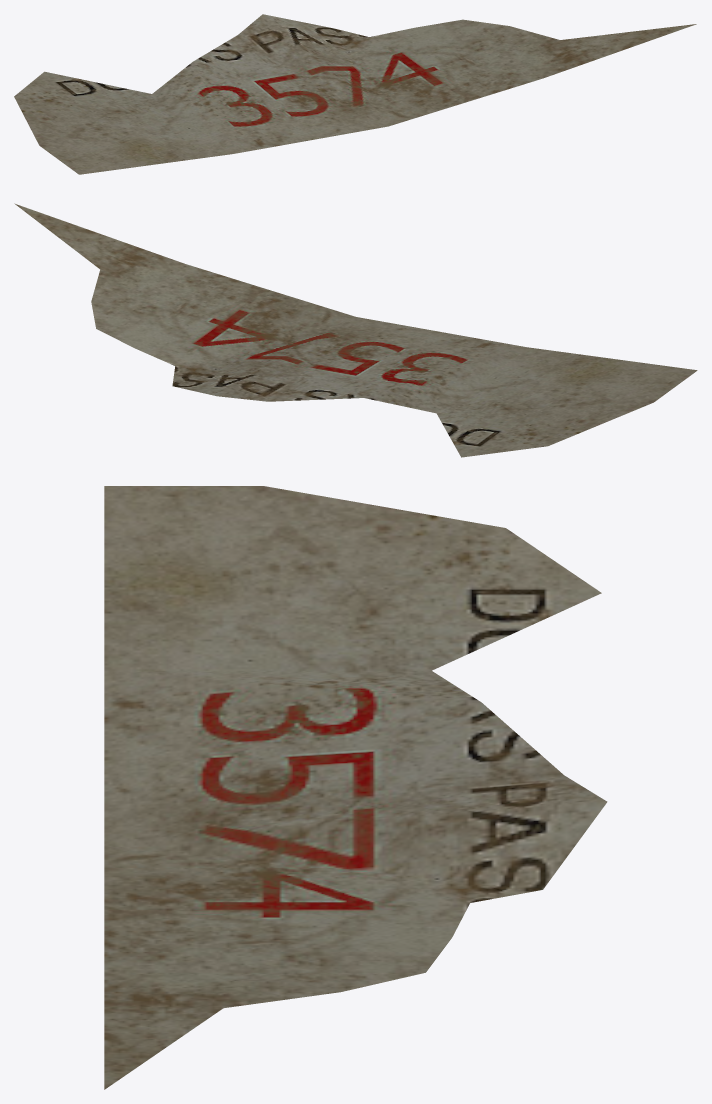
Rendered from Passcode_02.FBX.
3 views of the same model, one above another, from view 1: azimuth 30°, elevation 25°; view 2: azimuth 150°, elevation 25°; view 3: azimuth 270°, elevation 25° (orthographic). The views are drawn at different scales.
Visible parts, largest first — view 1: Passcode_02; view 2: Passcode_02; view 3: Passcode_02.
Part boxes in pixels (left/top/right/bottom): Passcode_02: left=14, top=14, right=696, bottom=174; Passcode_02: left=14, top=203, right=697, bottom=457; Passcode_02: left=104, top=486, right=607, bottom=1089.
Bounding box in the file's own units: 26.73 × 1.12 × 9.41.
